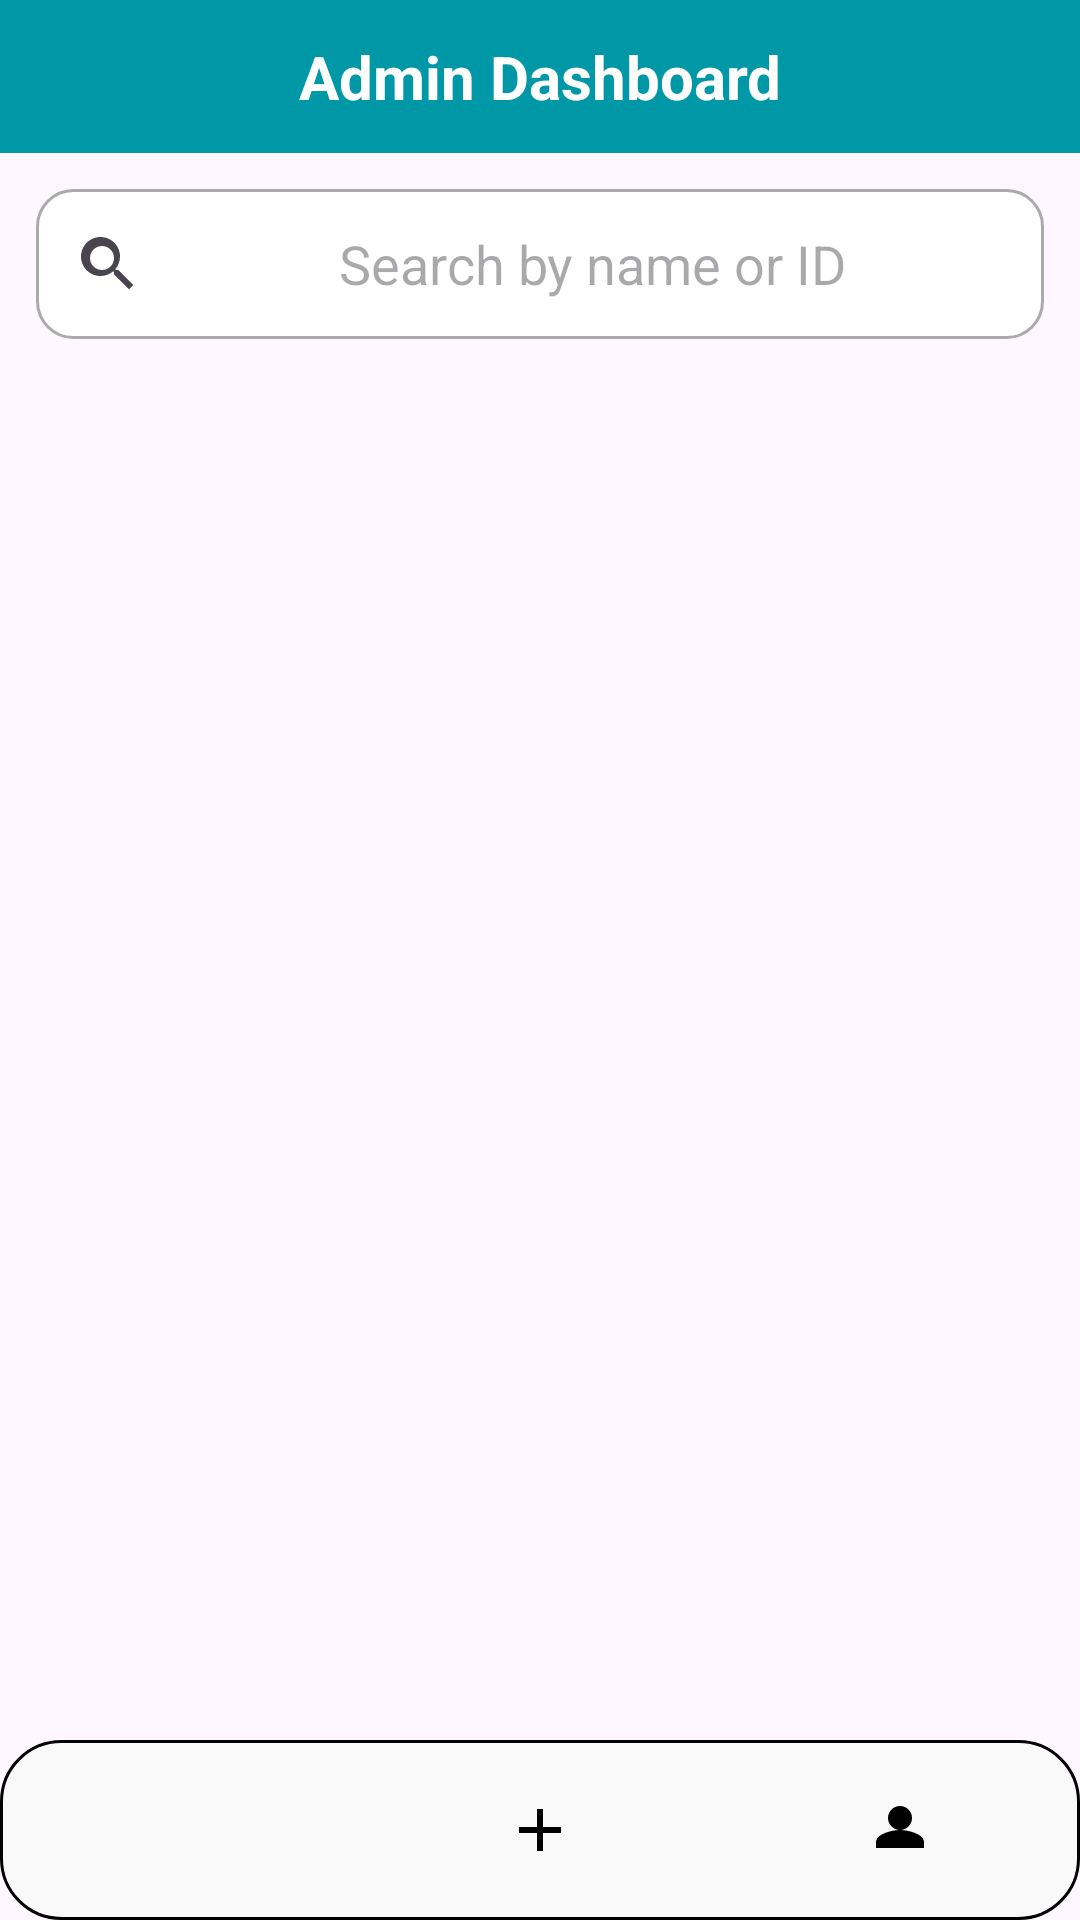

Screen size 1080px×1920px. Icon name, then its center in pixels as point (x, y):
Add: point (540, 1830)
Profile: point (900, 1827)
